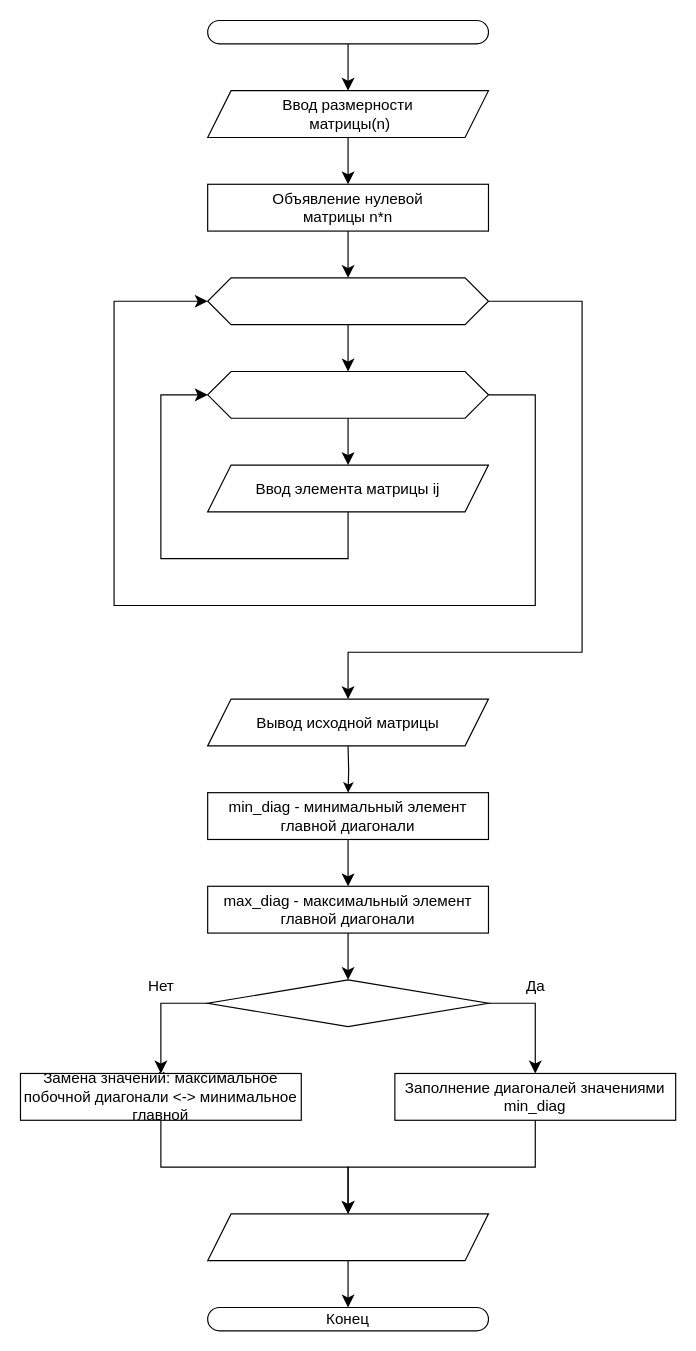
This 696x1351 diagram has some shape labels left out. The centre of each missing label's shape, as x and y in pixels:
"min_diag == max_diag" goes at (x=347, y=1003).
"Вывод полученной матрицы" goes at (x=347, y=1237).
"Начало" goes at (x=347, y=31).
"Цикл i (n)" goes at (x=347, y=301).
"Цикл j (n)" goes at (x=347, y=394).
